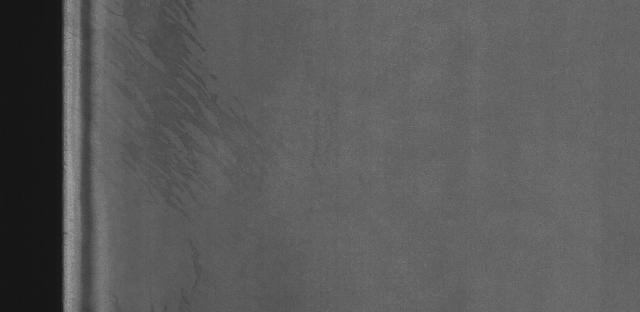water_spot: (103, 2, 258, 216)
